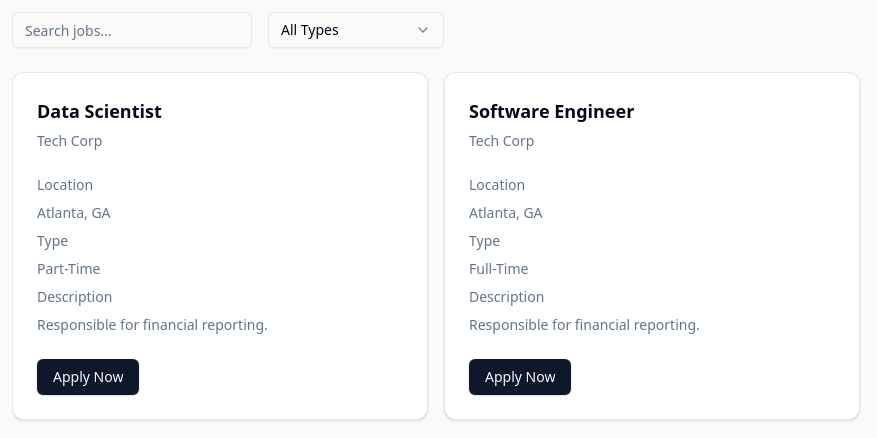
Test: JobList › should filter jobs when selecting type › should show only part-time jobs
What coordinates should you click on to do the following:
click the dropdown
I would click on:
 (356, 30)
Its box is x1=268 y1=12 x2=444 y2=48.
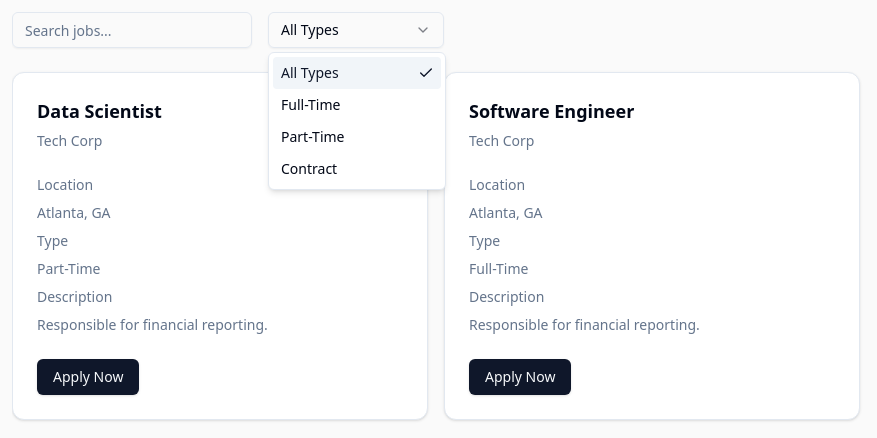
What coordinates should you click on to do the following:
click the option "Part-Time"
I would click on:
 (313, 136)
Its box is x1=281 y1=127 x2=344 y2=146.
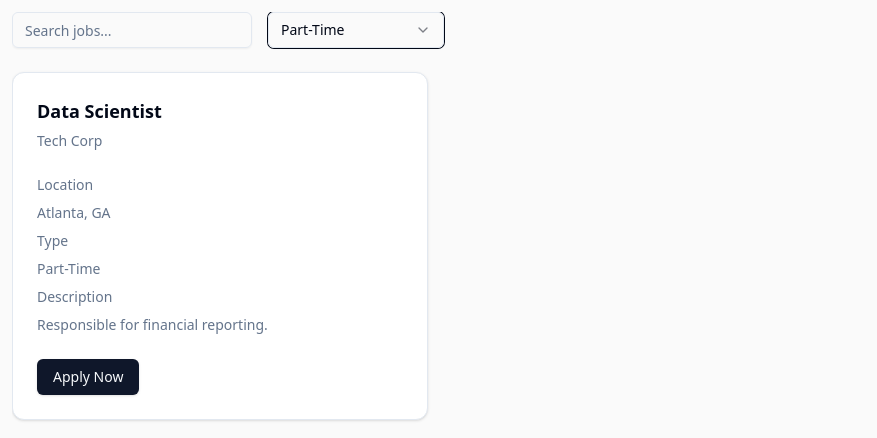
Check: the heading "Data Scientist" is shown, box x1=37 y1=99 x2=162 y2=123
Check: the number of list items with test id "job-card" is 1, box x1=12 y1=72 x2=428 y2=420
Check: the heading "Software Engineer" is gone
